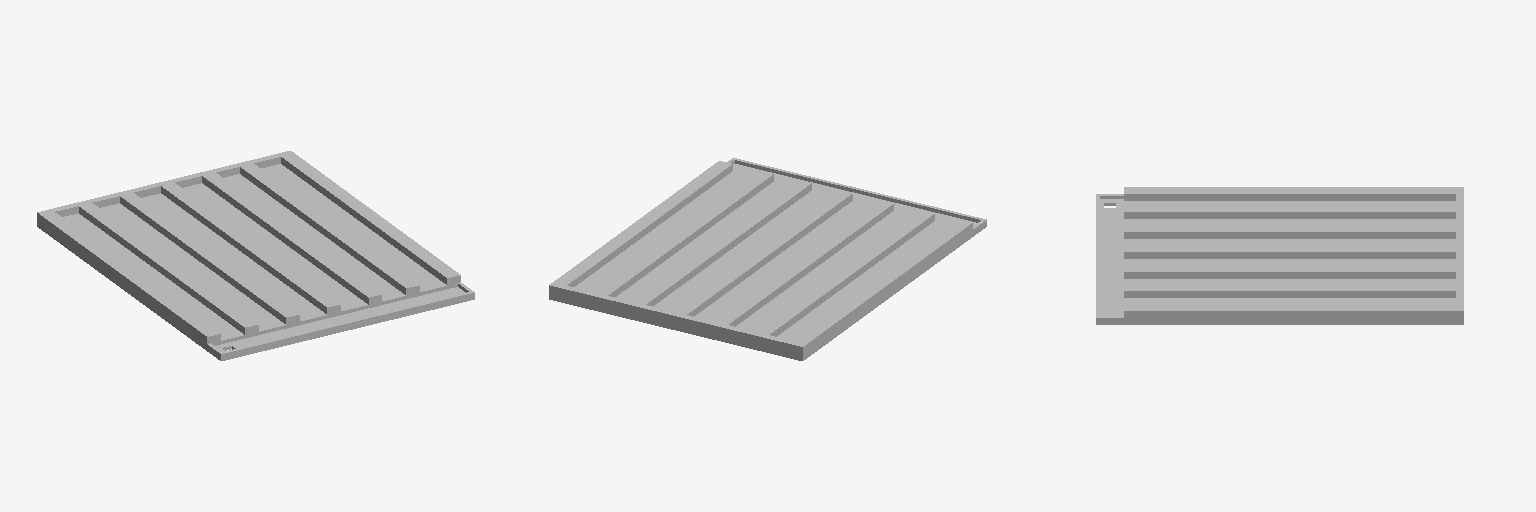
The model's file is 4x2 roof2.obj.
3 views of the same model, side by side, from view 1: azimuth 30°, elevation 25°; view 2: azimuth 150°, elevation 25°; view 3: azimuth 270°, elevation 25° (orthographic).
Parts seen in each view (by area): view 1: 4x2 roof2; view 2: 4x2 roof2; view 3: 4x2 roof2.
Boxes of the visible parts, x1,y1,x2,y2 form: 4x2 roof2: [37, 151, 474, 360]; 4x2 roof2: [549, 158, 986, 360]; 4x2 roof2: [1096, 187, 1463, 324].
Size of the model in its own units: 74 by 4 by 93.